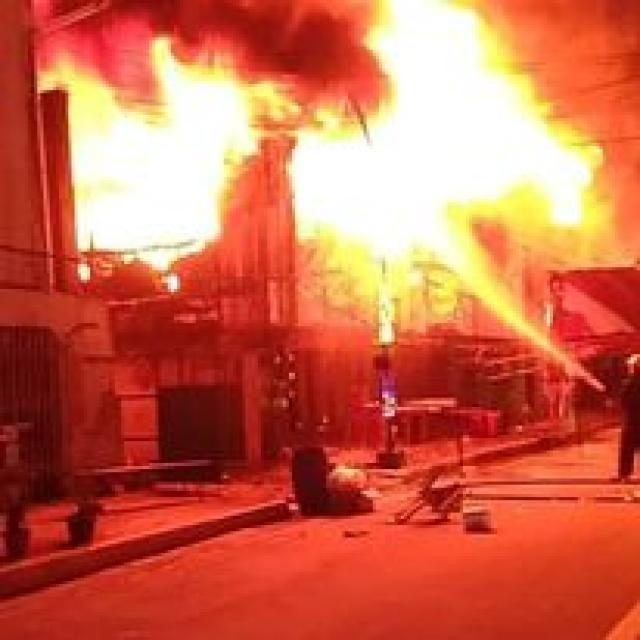Fire: (286, 0, 604, 278), (41, 39, 282, 290)
Smoke: (126, 0, 394, 123)
